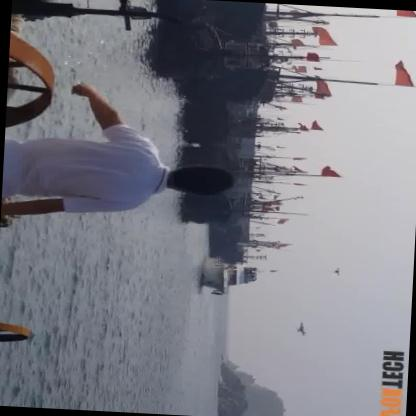drone: (293, 319, 308, 337)
